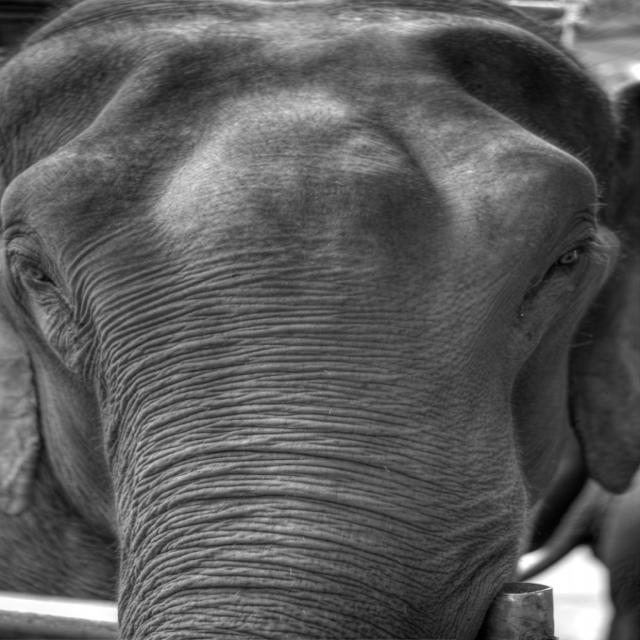Elephant: (1, 0, 632, 640)
